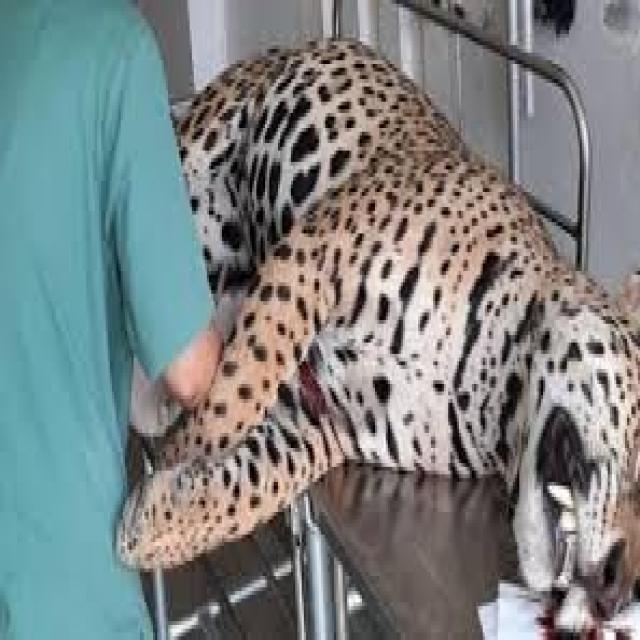Jaguar: (164, 38, 636, 618)
